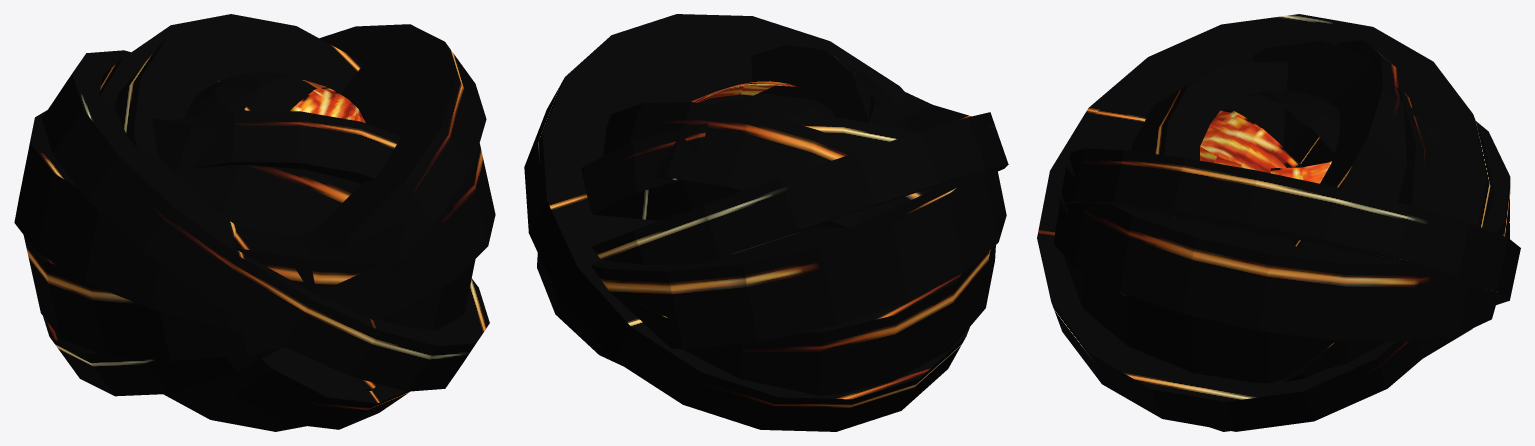
File: frame_057.obj
The picture shows the model from 3 angles, left to right: view 1: azimuth 30°, elevation 25°; view 2: azimuth 150°, elevation 25°; view 3: azimuth 270°, elevation 25°; orthographic projection. The views are drawn at different scales.
Parts seen in each view (by area): view 1: cylinder, sphere; view 2: cylinder, sphere; view 3: cylinder, sphere.
Part boxes in pixels (box(x1,y1,x2,y2)): cylinder: box(14, 14, 495, 431); sphere: box(185, 72, 365, 122); cylinder: box(524, 14, 1008, 431); sphere: box(658, 81, 835, 221); cylinder: box(1037, 14, 1520, 431); sphere: box(1200, 90, 1340, 183).
Size of the model in its own units: 1.05 by 0.8038 by 1.12.
Materials: 5 (5 with a texture image).
